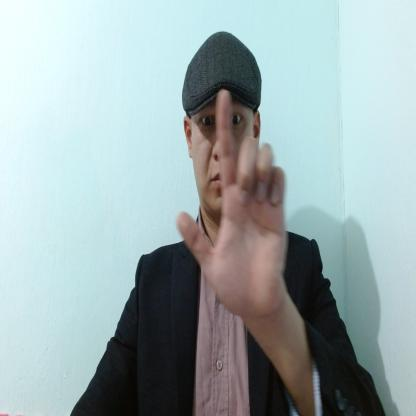L: (177, 89, 285, 315)
